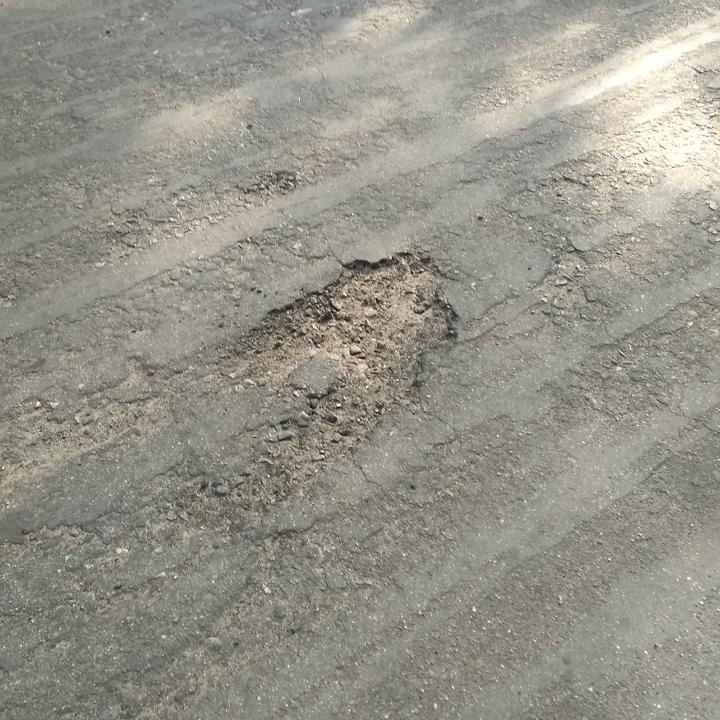pothole: (221, 244, 464, 488)
